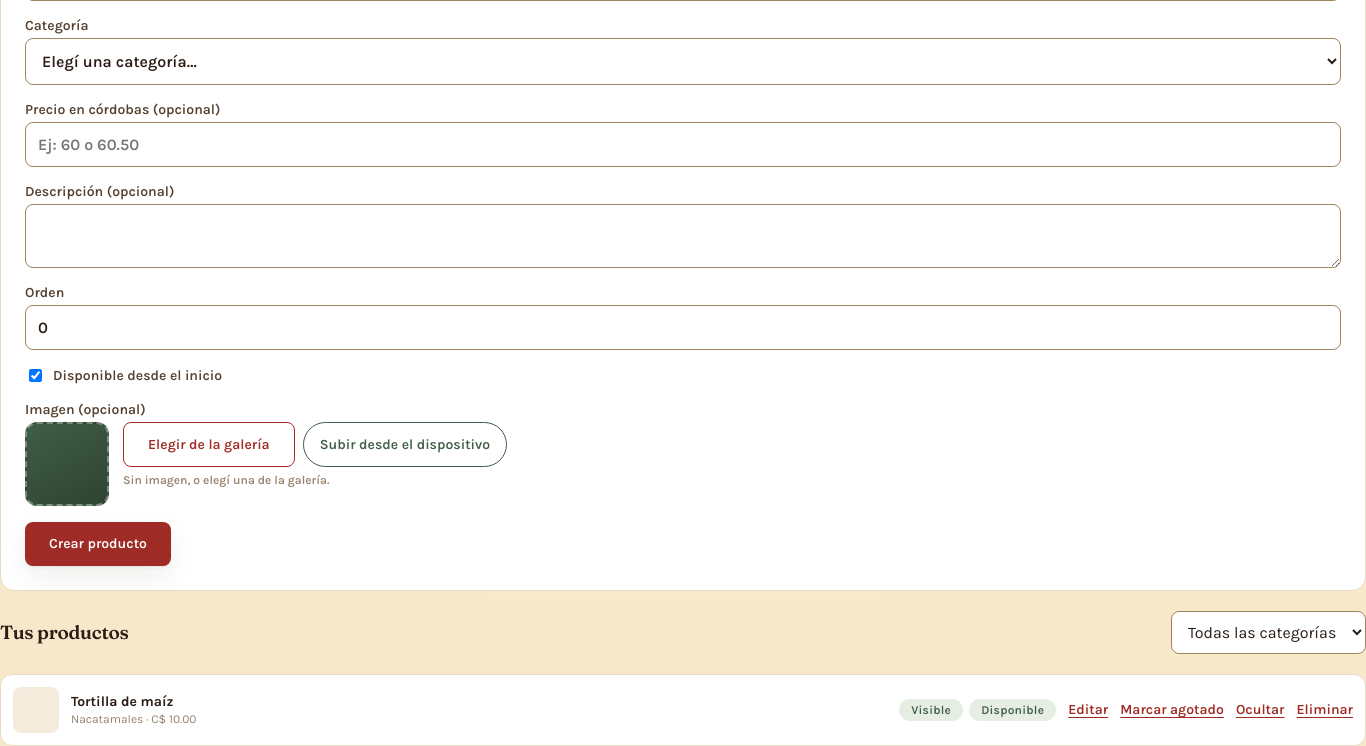
Test case: ProductManager › avisa cuando el producto no se pudo eliminar
(page scrolled)
Expected: the text "Tortilla de maíz" is shown, [71,693,174,710]
What coordinates should you click on to do the following:
click the button "Eliminar"
I would click on:
 (1325, 710)
Its box is [1296,701,1353,718].
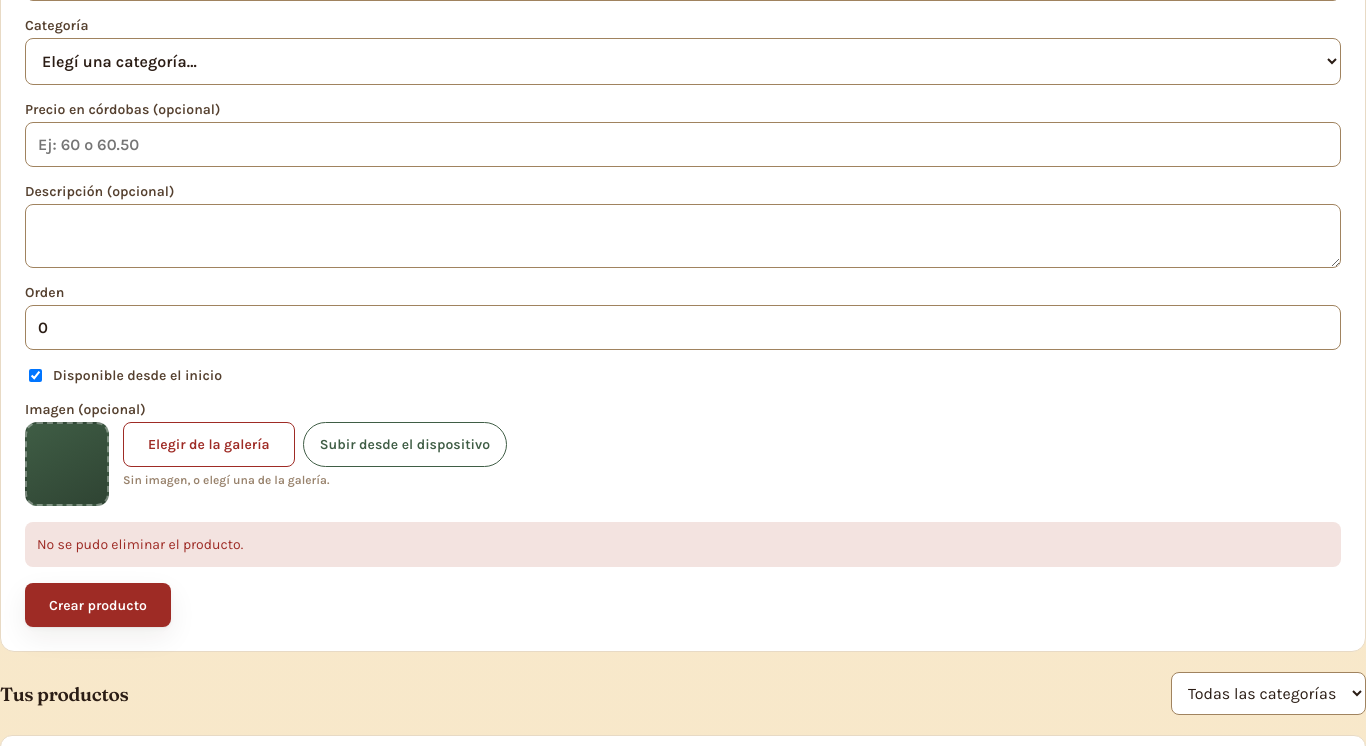
Expected: the text "No se pudo eliminar el producto." is shown, [25,522,1341,568]
